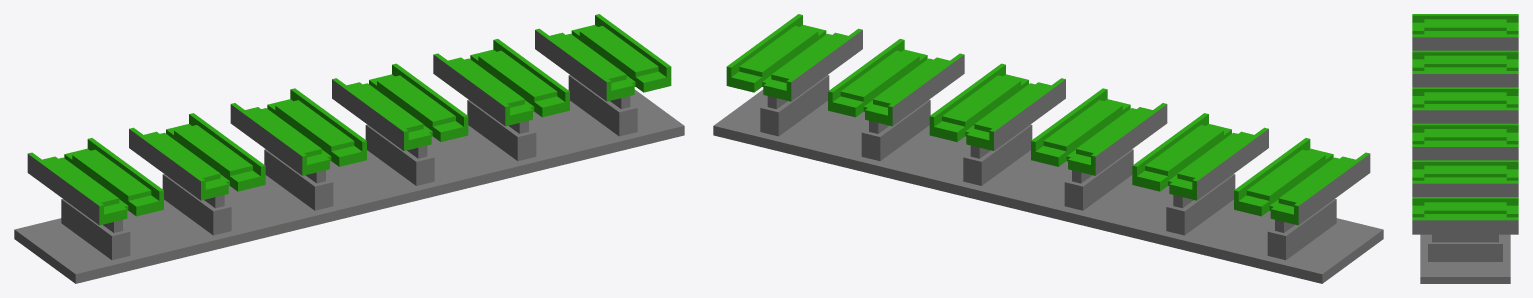
File: airport.glb
3 views of the same model, side by side, from view 1: azimuth 30°, elevation 25°; view 2: azimuth 150°, elevation 25°; view 3: azimuth 270°, elevation 25° (orthographic). The views are drawn at different scales.
Parts seen in each view (by area): view 1: Cube.001; view 2: Cube.001; view 3: Cube.001.
Boxes of the visible parts, x1,y1,x2,y2 form: Cube.001: [14, 14, 684, 283]; Cube.001: [713, 14, 1383, 283]; Cube.001: [1412, 14, 1518, 283].
Size of the model in its own units: 132 by 16 by 27.
1 material, 1 textured.
